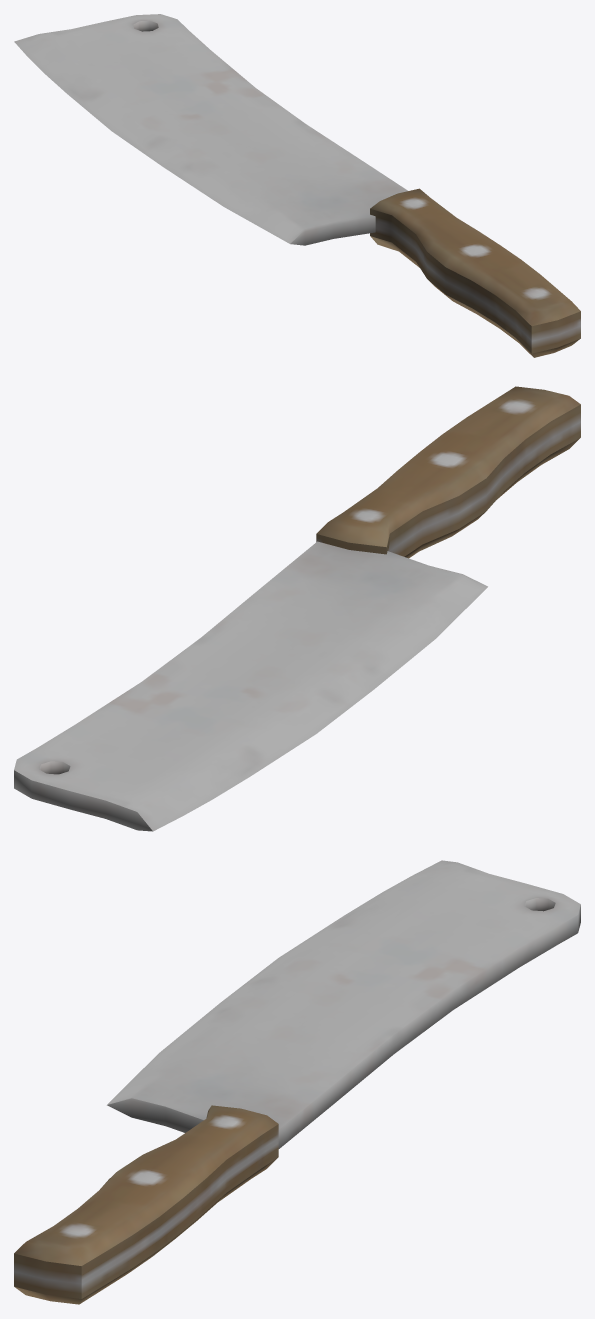
The model's file is SM_Farm_Knife.fbx.
3 renders of one model, top to bottom at view 1: azimuth 30°, elevation 25°; view 2: azimuth 150°, elevation 25°; view 3: azimuth 330°, elevation 25°, orthographic. The views are drawn at different scales.
Visible parts, largest first — view 1: SM_Farm_Knife_LOD0; view 2: SM_Farm_Knife_LOD0; view 3: SM_Farm_Knife_LOD0.
Part boxes in pixels (box(x1,y1,x2,y2)): SM_Farm_Knife_LOD0: box(14, 14, 580, 357); SM_Farm_Knife_LOD0: box(14, 386, 580, 831); SM_Farm_Knife_LOD0: box(14, 860, 580, 1304).
Bounding box in the file's own units: 14.76 × 3.9 × 69.73.
